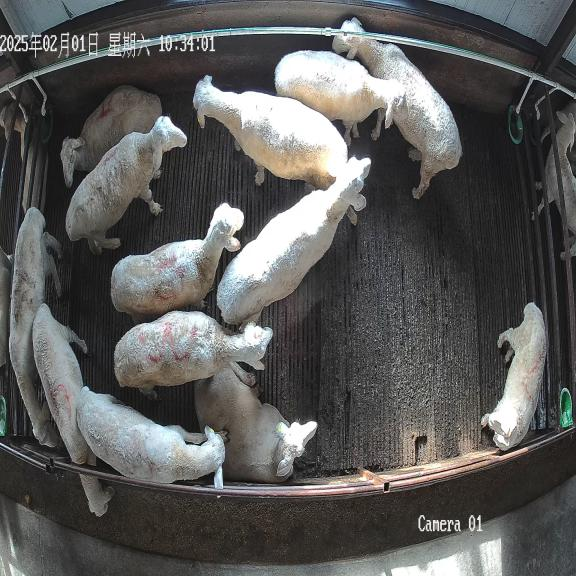eating: (33, 304, 114, 516)
lying: (194, 363, 317, 483), (60, 85, 162, 187)
stand: (217, 158, 371, 324), (332, 17, 462, 198), (193, 76, 347, 189), (66, 116, 187, 254), (111, 202, 243, 322), (77, 386, 225, 483), (114, 311, 272, 398), (9, 207, 62, 446), (274, 50, 408, 143), (481, 303, 546, 449)
